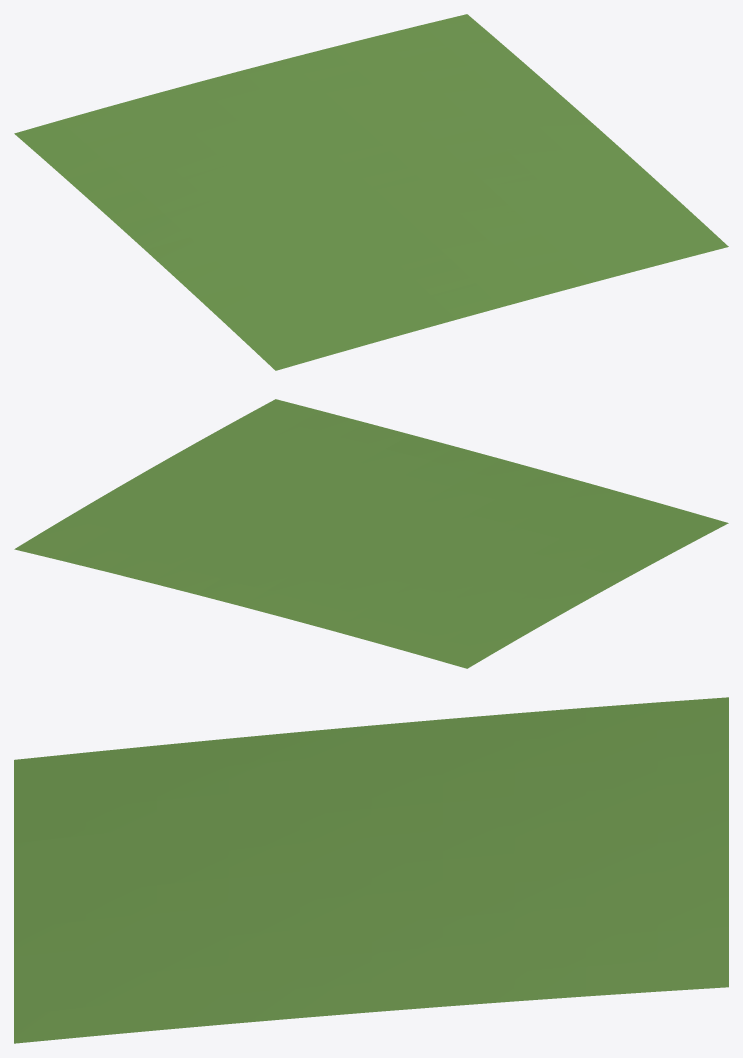
File: terrain-18-19.gltf
3 renders of one model, top to bottom at view 1: azimuth 30°, elevation 25°; view 2: azimuth 150°, elevation 25°; view 3: azimuth 270°, elevation 25°, orthographic. The views are drawn at different scales.
Size of the model in its own units: 50 by 5.78 by 50.
